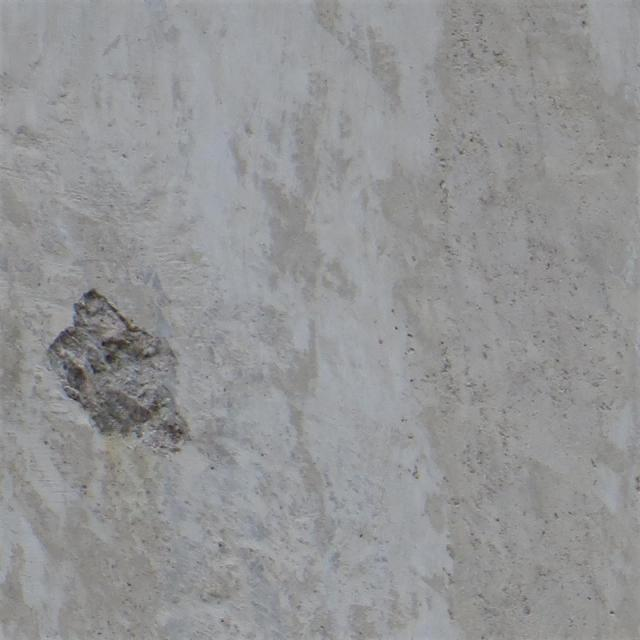concrete spalling: (45, 286, 191, 456)
